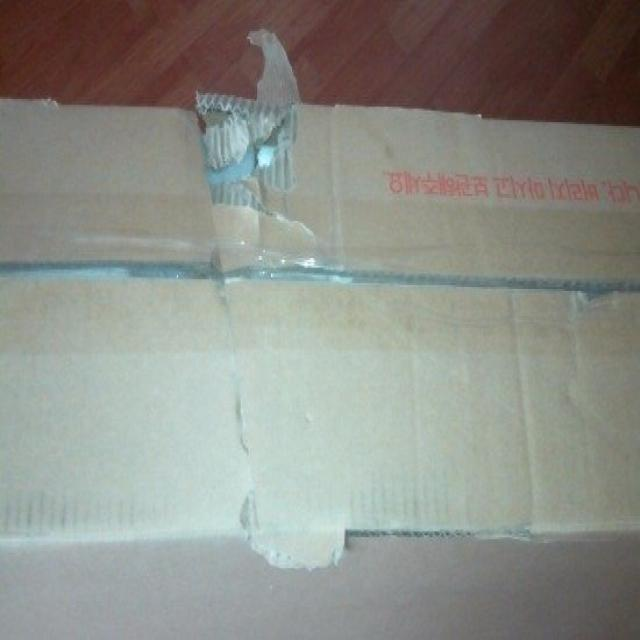hole: (183, 100, 307, 210)
